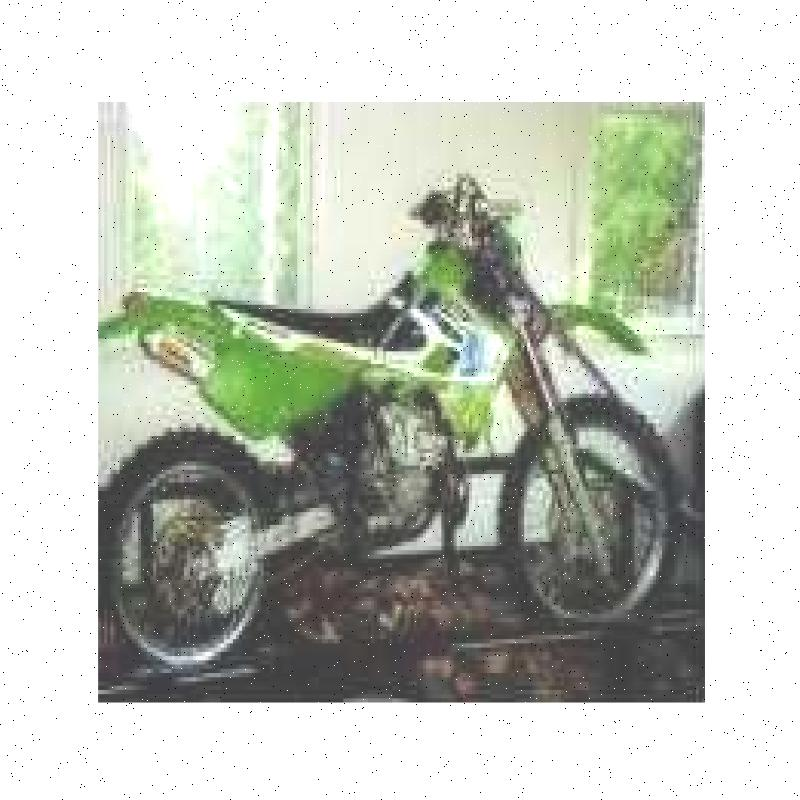bike: (95, 113, 673, 670)
